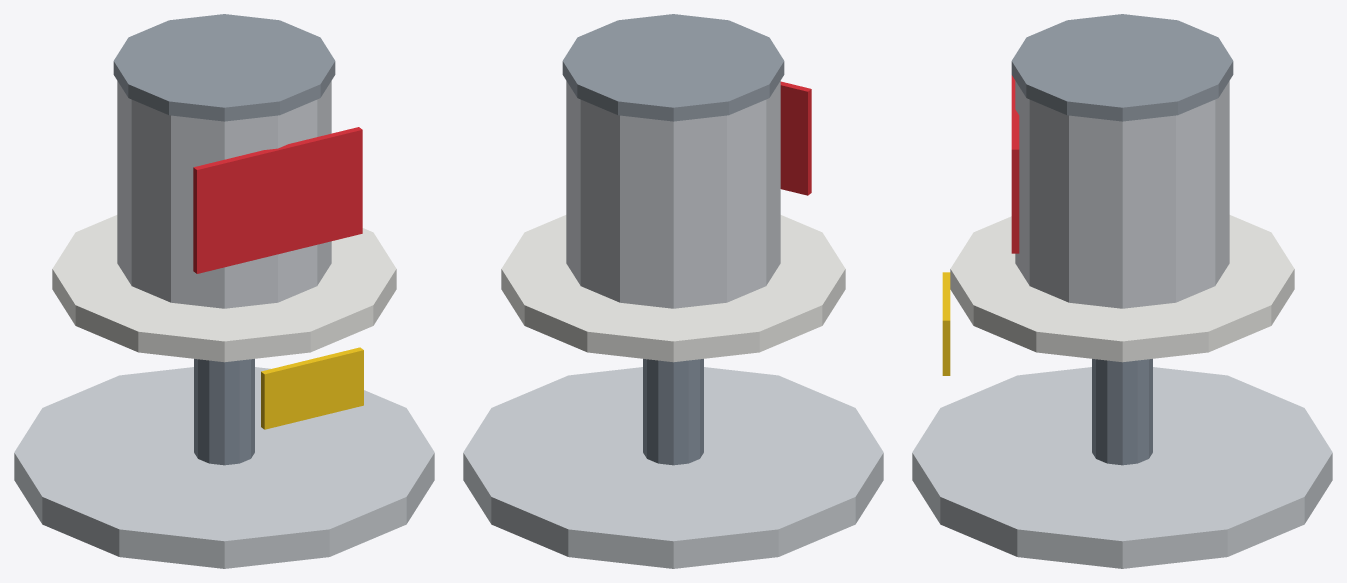
Rendered from item-paint_can.glb.
The picture shows the model from 3 angles, left to right: view 1: azimuth 30°, elevation 25°; view 2: azimuth 150°, elevation 25°; view 3: azimuth 270°, elevation 25°; orthographic projection.
Visible parts, largest first — view 1: item-paint_can; view 2: item-paint_can; view 3: item-paint_can.
Part boxes in pixels (x1,y1,x2,y2): item-paint_can: (14,14,434,568); item-paint_can: (463,14,883,568); item-paint_can: (912,14,1332,568).
Size of the model in its own units: 1.1 by 1.21 by 1.1.
